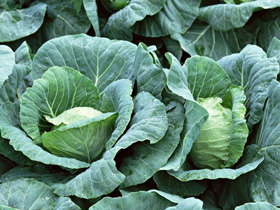cabbage: (0, 31, 180, 198), (153, 39, 279, 209)
